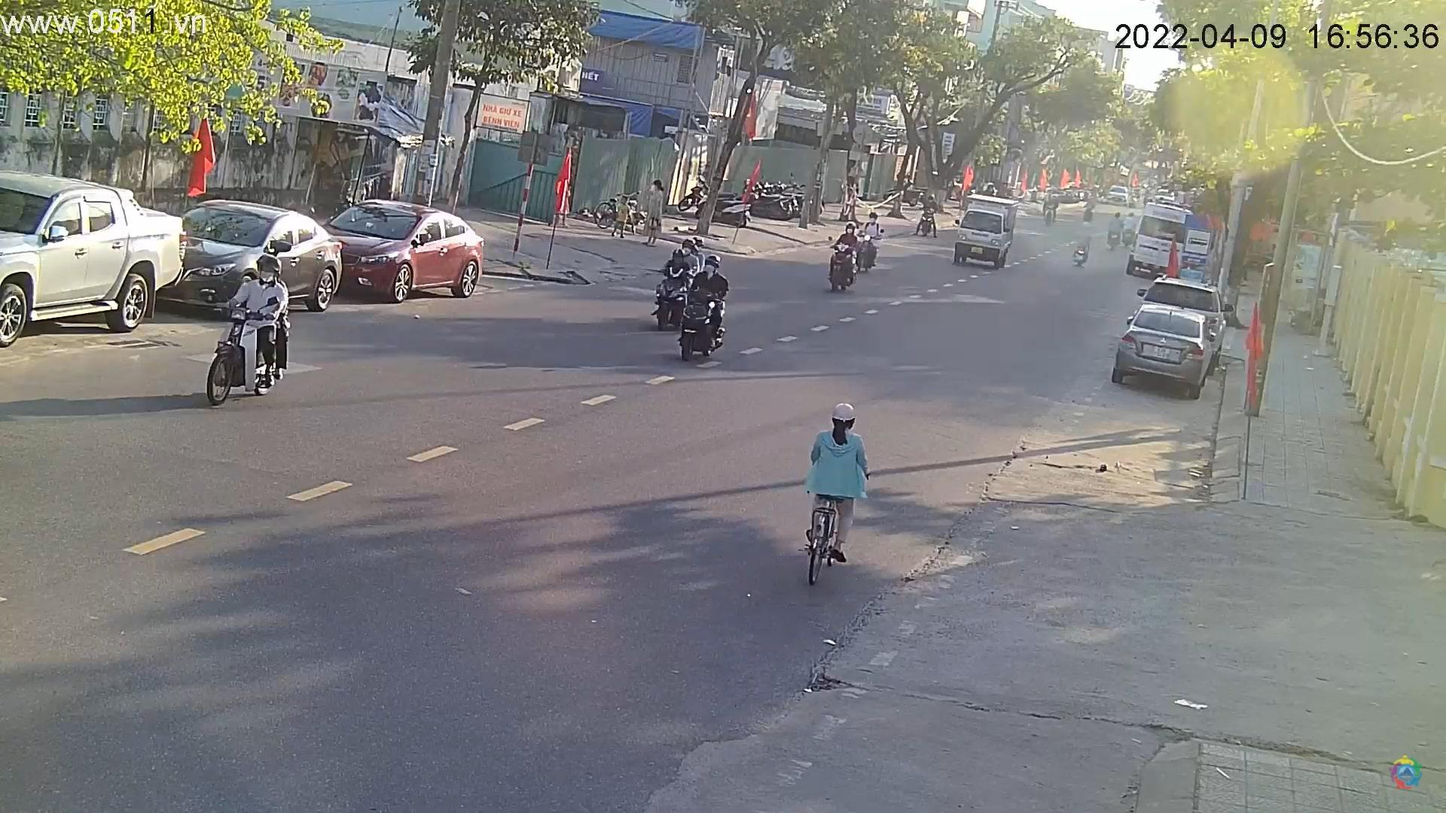car: (2, 172, 188, 352), (172, 203, 351, 316), (318, 199, 487, 305)
motorbike: (198, 285, 299, 404), (673, 279, 728, 366), (825, 232, 863, 294)
truck: (949, 199, 1020, 269)
